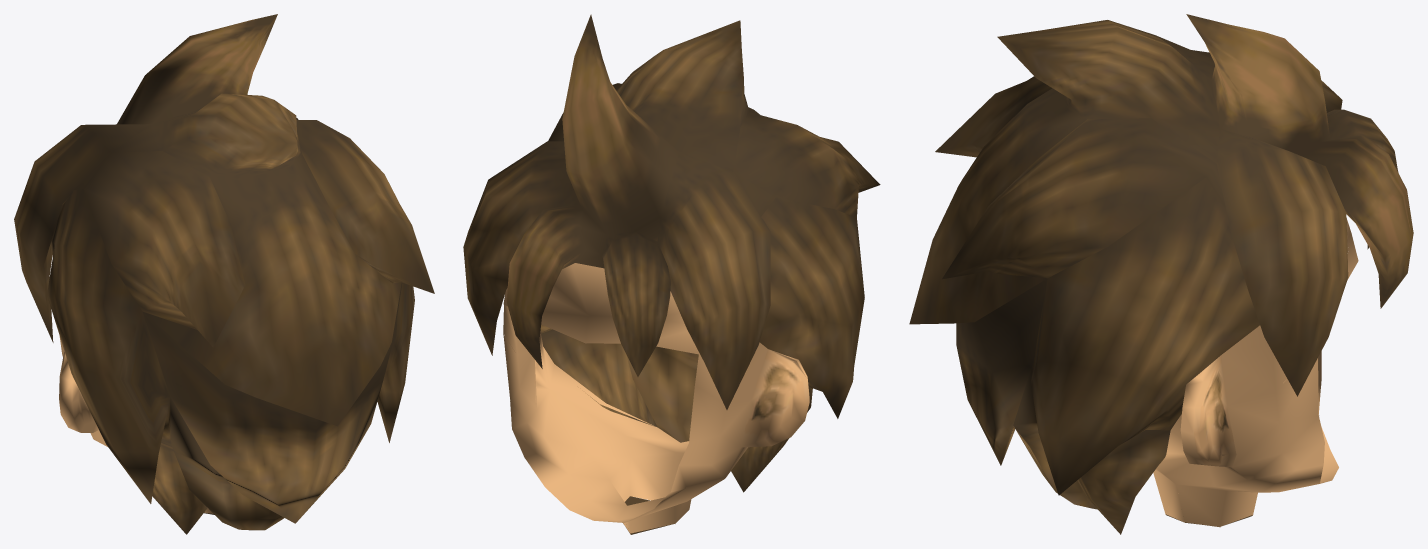
The model's file is batch_0005.obj.
3 renders of one model, left to right at view 1: azimuth 30°, elevation 25°; view 2: azimuth 150°, elevation 25°; view 3: azimuth 270°, elevation 25°, orthographic. The views are drawn at different scales.
Parts seen in each view (by area): view 1: batch_0005; view 2: batch_0005; view 3: batch_0005.
Part boxes in pixels (x1,y1,x2,y2): batch_0005: [14, 14, 434, 534]; batch_0005: [463, 14, 880, 534]; batch_0005: [909, 14, 1413, 534].
Size of the model in its own units: 40.56 by 57.48 by 48.65.
Materials: 1 (1 with a texture image).
